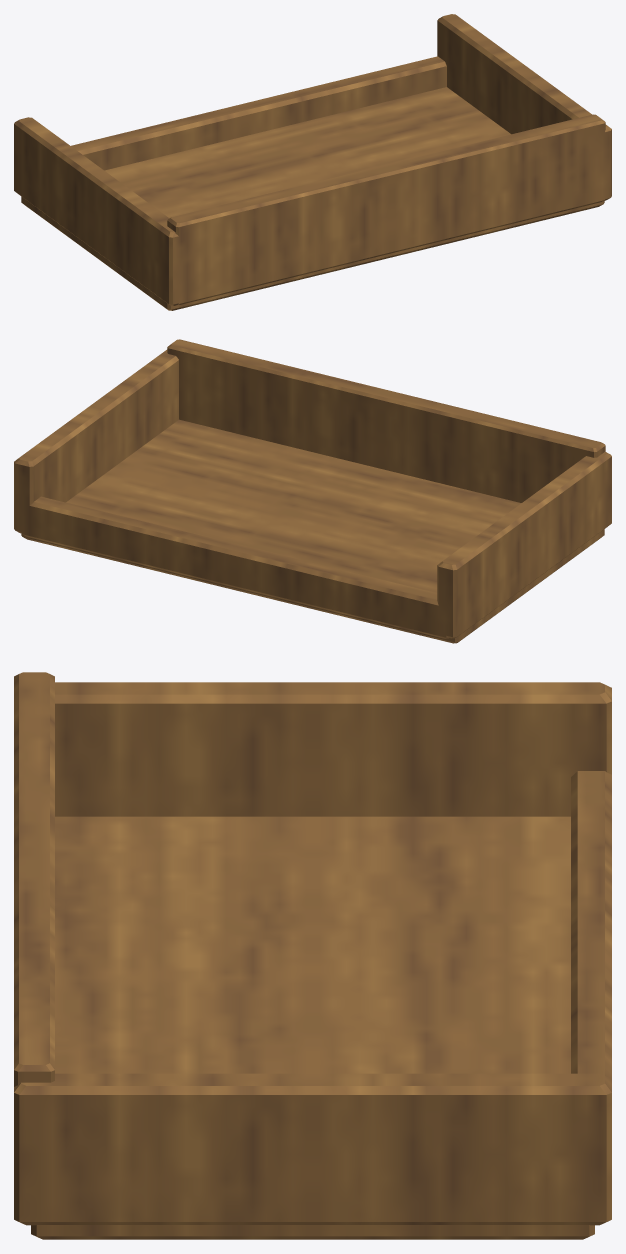
File: ReceivingTray.obj
3 renders of one model, top to bottom at view 1: azimuth 30°, elevation 25°; view 2: azimuth 150°, elevation 25°; view 3: azimuth 270°, elevation 25°, orthographic. The views are drawn at different scales.
Parts seen in each view (by area): view 1: Tray_Boards; view 2: Tray_Boards; view 3: Tray_Boards.
Boxes of the visible parts, bbox=[...] form: Tray_Boards: bbox=[14, 14, 611, 310]; Tray_Boards: bbox=[14, 339, 611, 643]; Tray_Boards: bbox=[14, 672, 611, 1239].
Bounding box in the file's own units: 0.567 × 0.111 × 0.35.
Materials: 1 (1 with a texture image).
